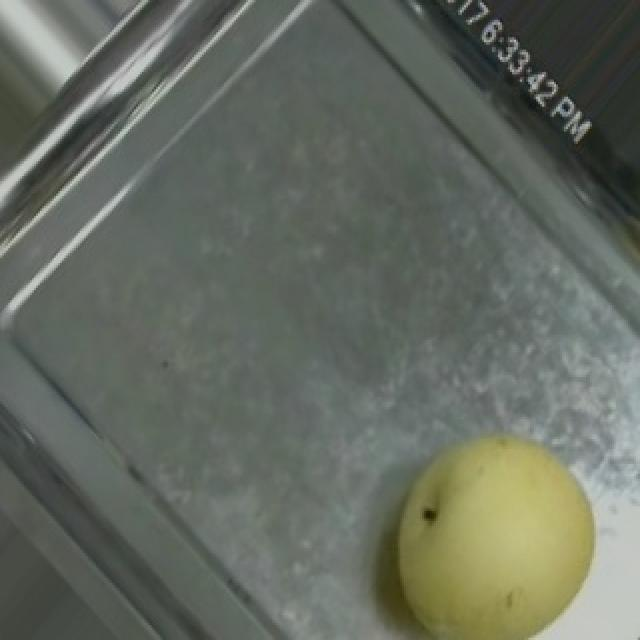Fruit: (356, 404, 618, 640)
